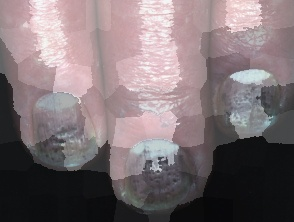Nail_psoriasis: (104, 124, 210, 222), (19, 82, 105, 179), (208, 61, 291, 143)
